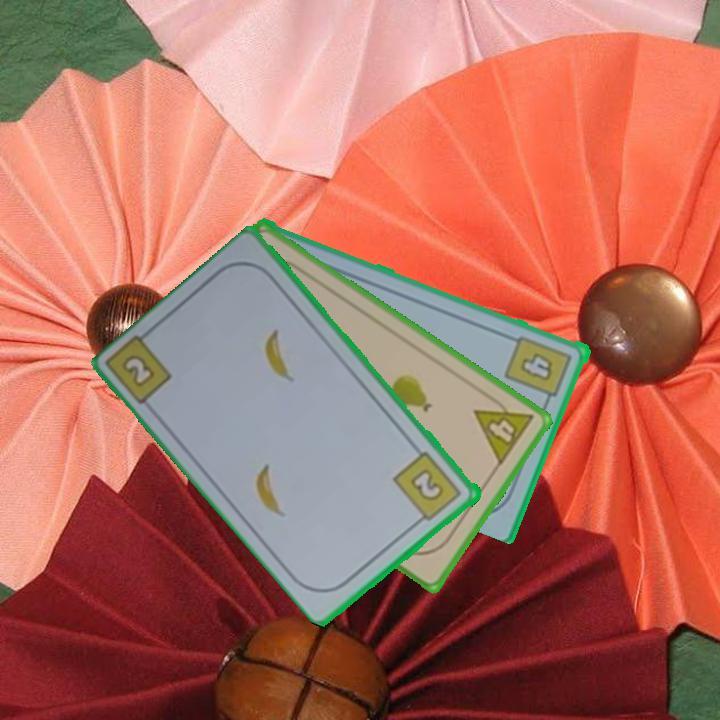2b: (390, 448, 465, 528), (118, 350, 159, 391)
4b: (502, 332, 576, 407)
4p: (470, 389, 537, 469)
